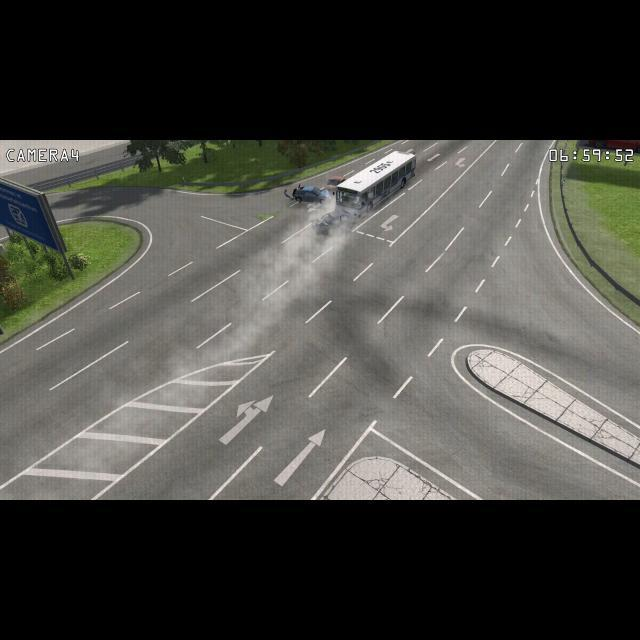accident: (313, 188, 367, 236)
